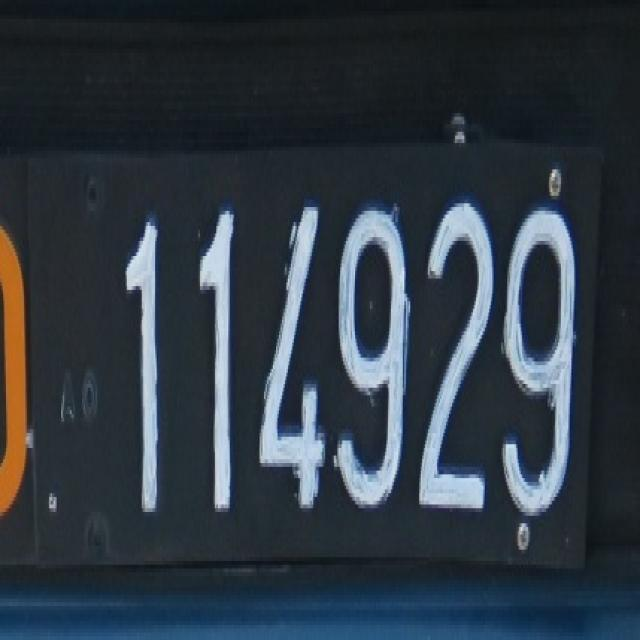licenseplate: (0, 149, 594, 578)
